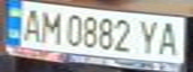0: (63, 11, 84, 47)
2: (112, 16, 136, 54)
8: (78, 12, 100, 50), (97, 15, 118, 52)
A: (154, 18, 184, 57), (18, 6, 45, 43)
M: (36, 7, 63, 45)
Y: (136, 17, 163, 56)
